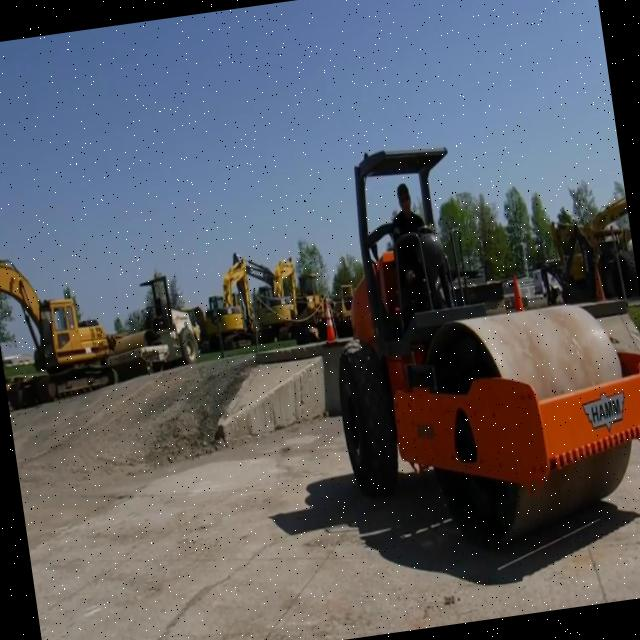Excavator: (0, 239, 111, 396), (202, 257, 258, 352)
Roller: (298, 116, 640, 560), (104, 266, 203, 368)
